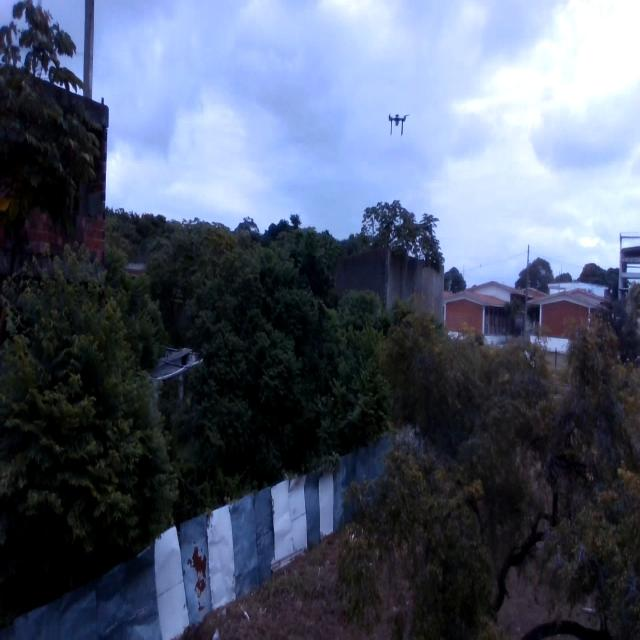-uav-: (386, 105, 412, 141)
